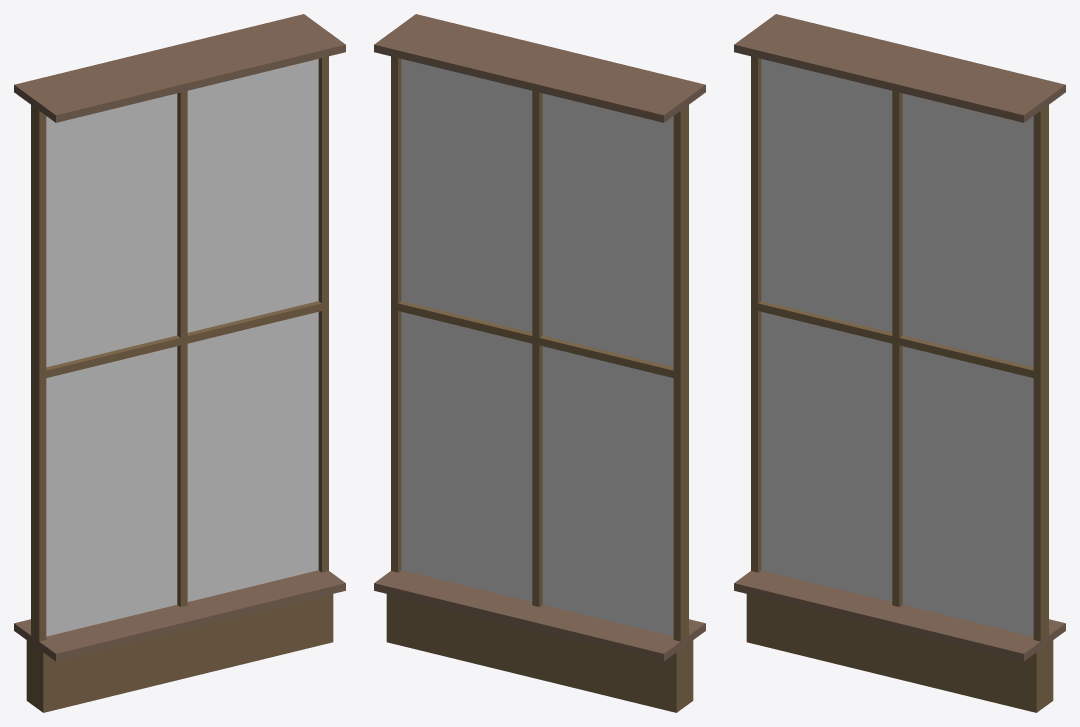
File: window.gltf
The picture shows the model from 3 angles, left to right: view 1: azimuth 30°, elevation 25°; view 2: azimuth 150°, elevation 25°; view 3: azimuth 330°, elevation 25°; orthographic projection.
Visible parts, largest first — view 1: Window; view 2: Window; view 3: Window.
Part boxes in pixels (x1=…): Window: x1=14, y1=14, x2=345, y2=712; Window: x1=374, y1=14, x2=705, y2=712; Window: x1=734, y1=14, x2=1065, y2=712.
Bounding box in the file's own units: 1 × 2 × 0.25.
